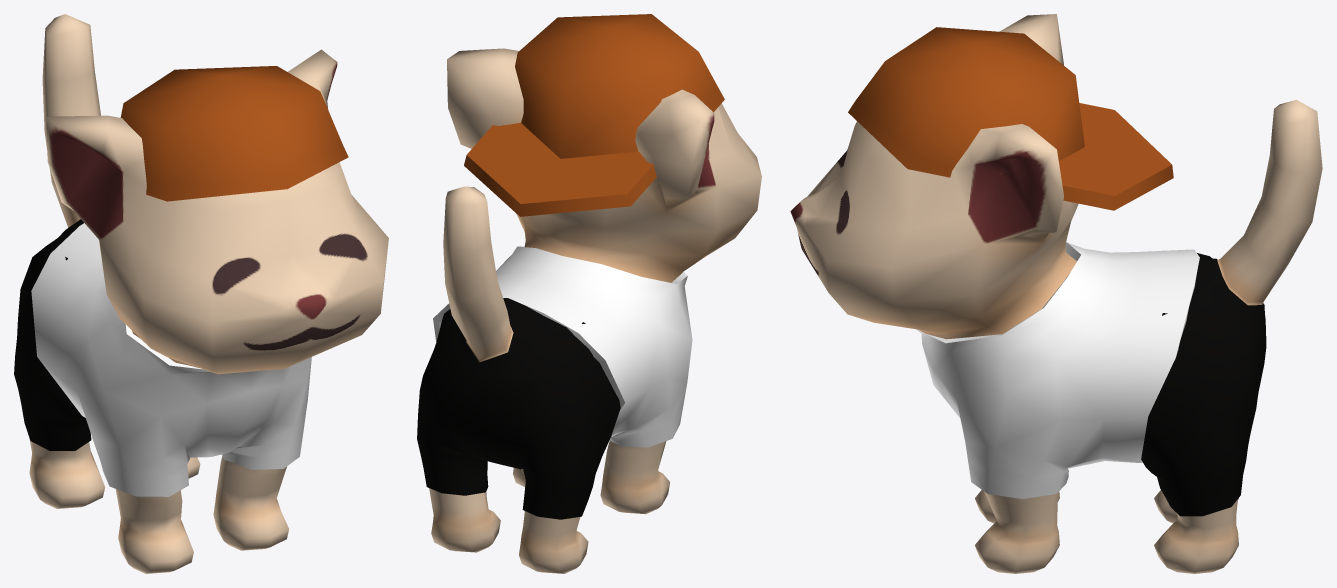
File: Dancer Cat01.fbx
3 views of the same model, side by side, from view 1: azimuth 30°, elevation 25°; view 2: azimuth 150°, elevation 25°; view 3: azimuth 270°, elevation 25° (orthographic). The views are drawn at different scales.
Parts seen in each view (by area): view 1: Cat_Base001, Dancer_Cat_Shirt, Dancer_Cat_Hat, Dancer_Cat_Shorts; view 2: Cat_Base001, Dancer_Cat_Hat, Dancer_Cat_Shorts, Dancer_Cat_Shirt; view 3: Cat_Base001, Dancer_Cat_Shirt, Dancer_Cat_Hat, Dancer_Cat_Shorts.
Part boxes in pixels (box(x1,y1,x2,y2)): Cat_Base001: box(29, 14, 388, 573); Dancer_Cat_Shirt: box(31, 223, 311, 496); Dancer_Cat_Hat: box(120, 66, 348, 201); Dancer_Cat_Shorts: box(14, 219, 91, 450); Cat_Base001: box(429, 48, 761, 573); Dancer_Cat_Hat: box(464, 14, 724, 216); Dancer_Cat_Shorts: box(417, 298, 620, 519); Dancer_Cat_Shirt: box(433, 246, 692, 447); Cat_Base001: box(790, 14, 1322, 573); Dancer_Cat_Shirt: box(916, 242, 1199, 498); Dancer_Cat_Hat: box(848, 27, 1173, 210); Dancer_Cat_Shorts: box(1141, 253, 1266, 516).
Bounding box in the file's own units: 1.75 × 2.83 × 2.9.
4 materials, 1 textured.
